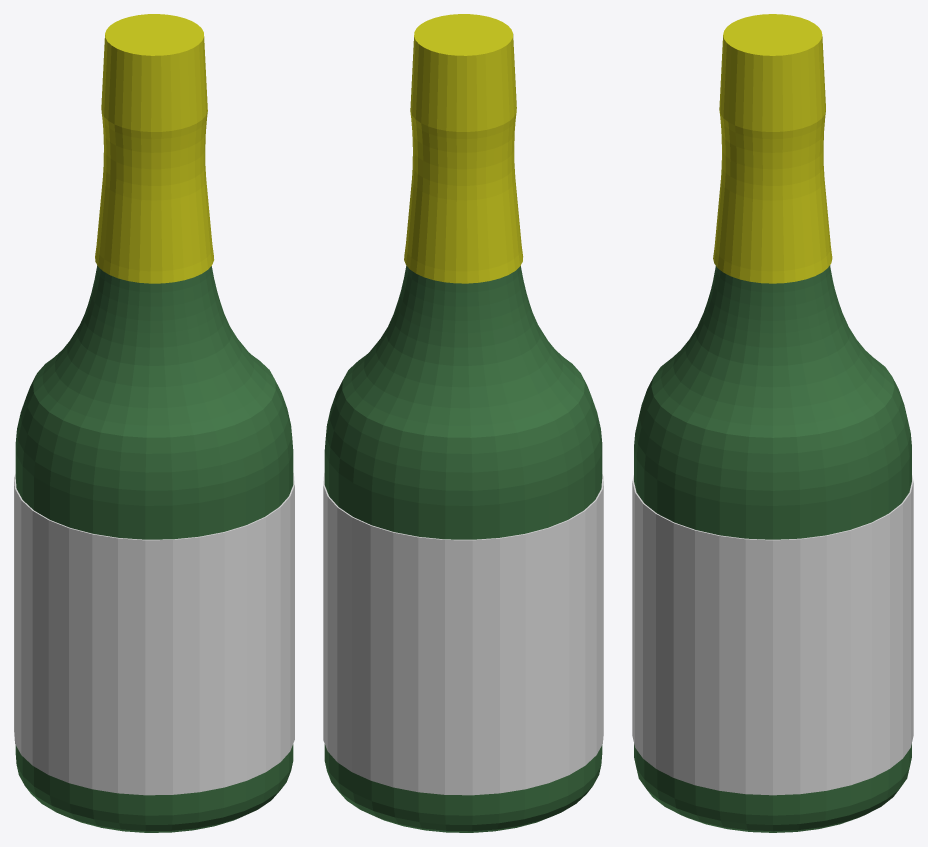
The model's file is shampagne.fbx.
3 renders of one model, left to right at view 1: azimuth 30°, elevation 25°; view 2: azimuth 150°, elevation 25°; view 3: azimuth 270°, elevation 25°, orthographic.
Parts seen in each view (by area): view 1: Cylinder.001, Cylinder, Cylinder.002; view 2: Cylinder.001, Cylinder, Cylinder.002; view 3: Cylinder.001, Cylinder, Cylinder.002.
Boxes of the visible parts, box(x1,y1,x2,y2) form: Cylinder.001: box(14, 473, 294, 795); Cylinder: box(15, 265, 293, 832); Cylinder.002: box(95, 14, 214, 283); Cylinder.001: box(323, 473, 603, 795); Cylinder: box(324, 266, 602, 832); Cylinder.002: box(404, 14, 523, 283); Cylinder.001: box(632, 475, 913, 795); Cylinder: box(634, 265, 911, 832); Cylinder.002: box(713, 14, 832, 283).
Bounding box in the file's own units: 202 × 594 × 202.
